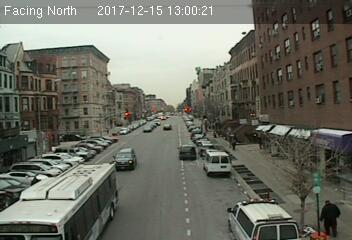bus: (1, 161, 118, 240)
car: (113, 148, 137, 168), (177, 144, 197, 159)
police: (225, 194, 300, 240)
truck: (203, 151, 232, 176)
